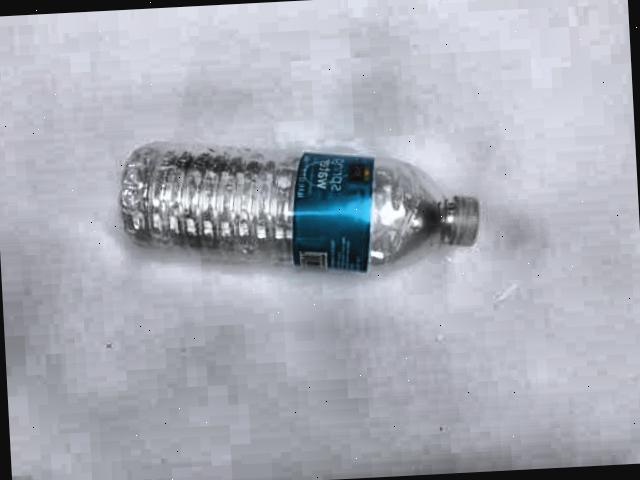Bottles: (102, 104, 510, 306)
